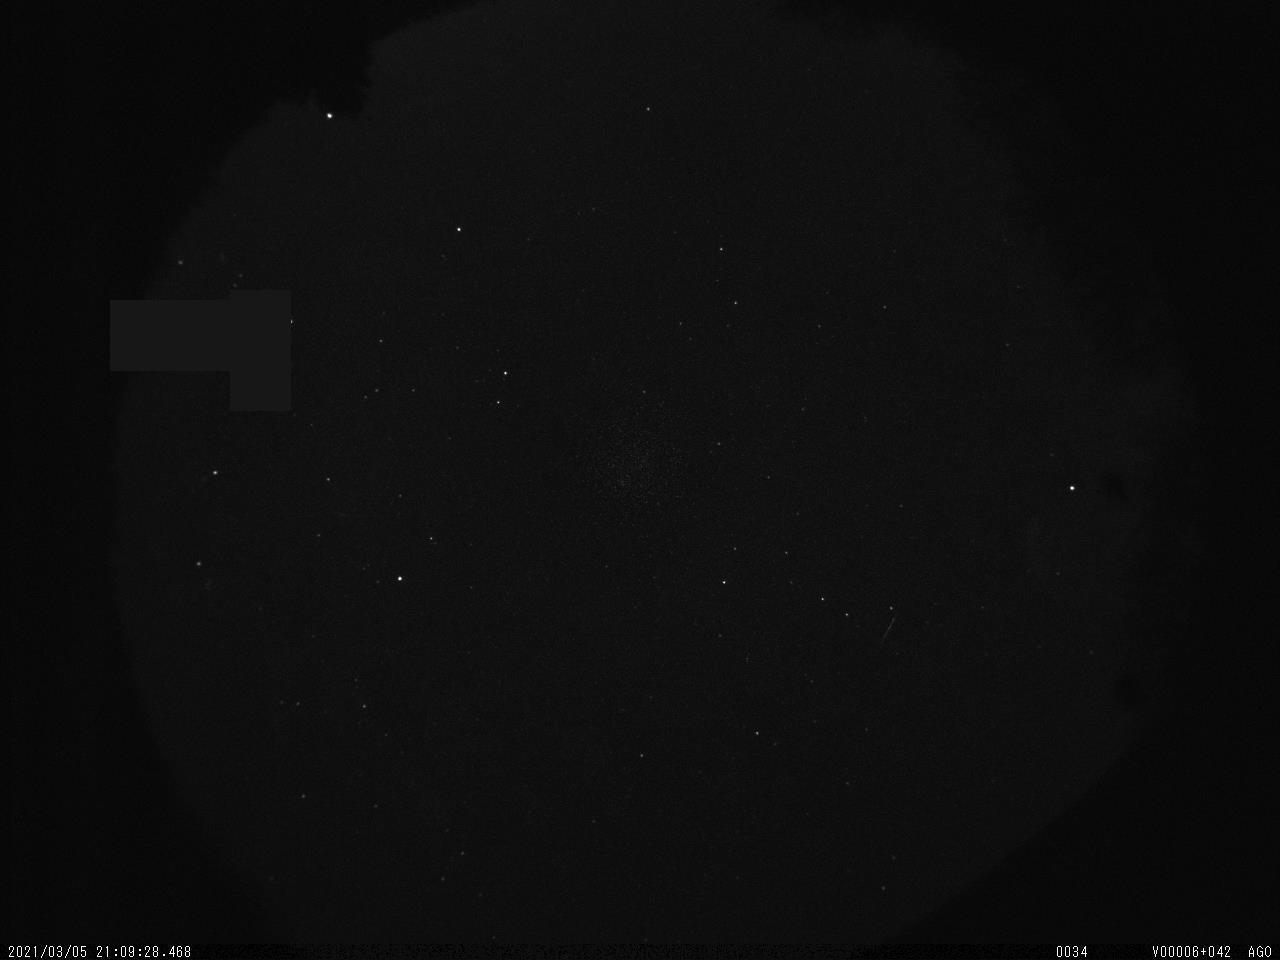meteor: (874, 610, 904, 644)
